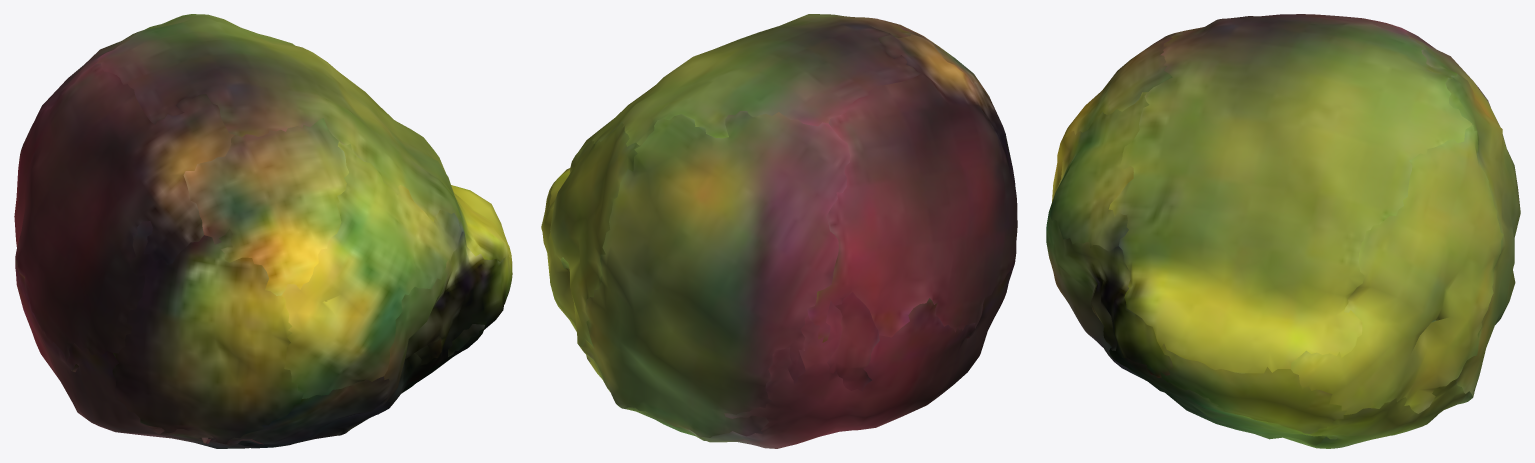
File: 8_pear.glb
The picture shows the model from 3 angles, left to right: view 1: azimuth 30°, elevation 25°; view 2: azimuth 150°, elevation 25°; view 3: azimuth 270°, elevation 25°; orthographic projection. The views are drawn at different scales.
Parts seen in each view (by area): view 1: 8_pear; view 2: 8_pear; view 3: 8_pear.
Boxes of the visible parts, bbox=[...] form: 8_pear: bbox=[14, 14, 512, 448]; 8_pear: bbox=[541, 14, 1017, 448]; 8_pear: bbox=[1046, 14, 1520, 448].
Bounding box in the file's own units: 0.1951 × 0.1671 × 0.1923.
1 material, 1 textured.
